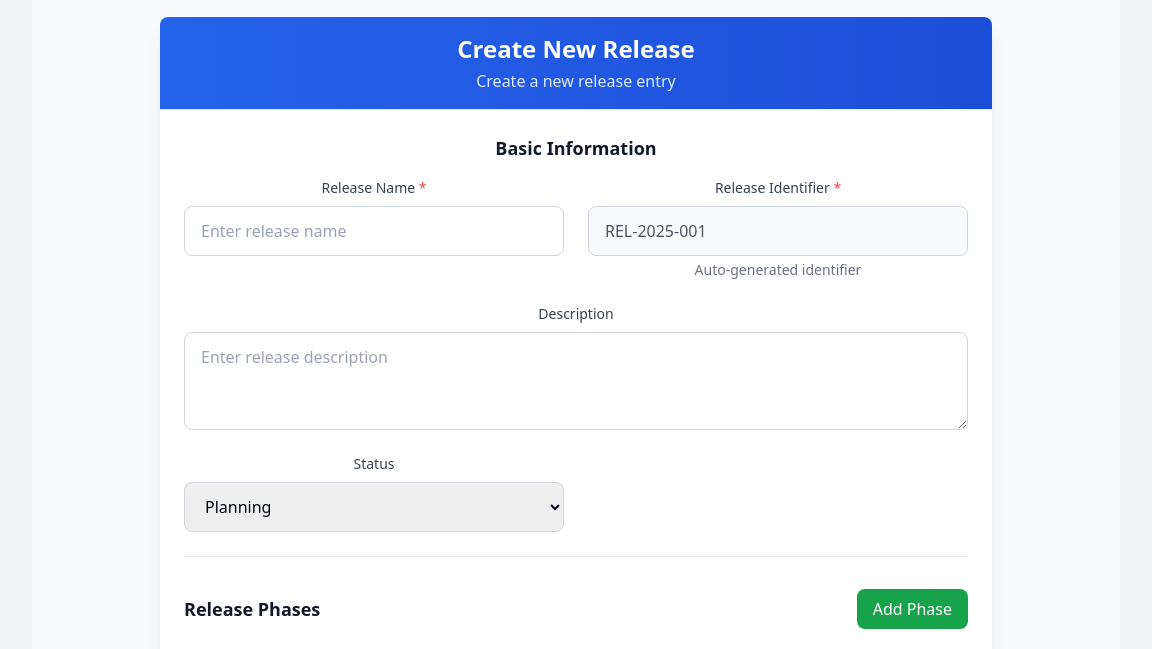
ReleaseForm › Phase Management › should auto-select next available phase type when adding new phase
Note: Add first phase - should default to first available type
Click the button "Add Phase". click: x=912, y=609
box: x1=857 y1=589 x2=968 y2=629
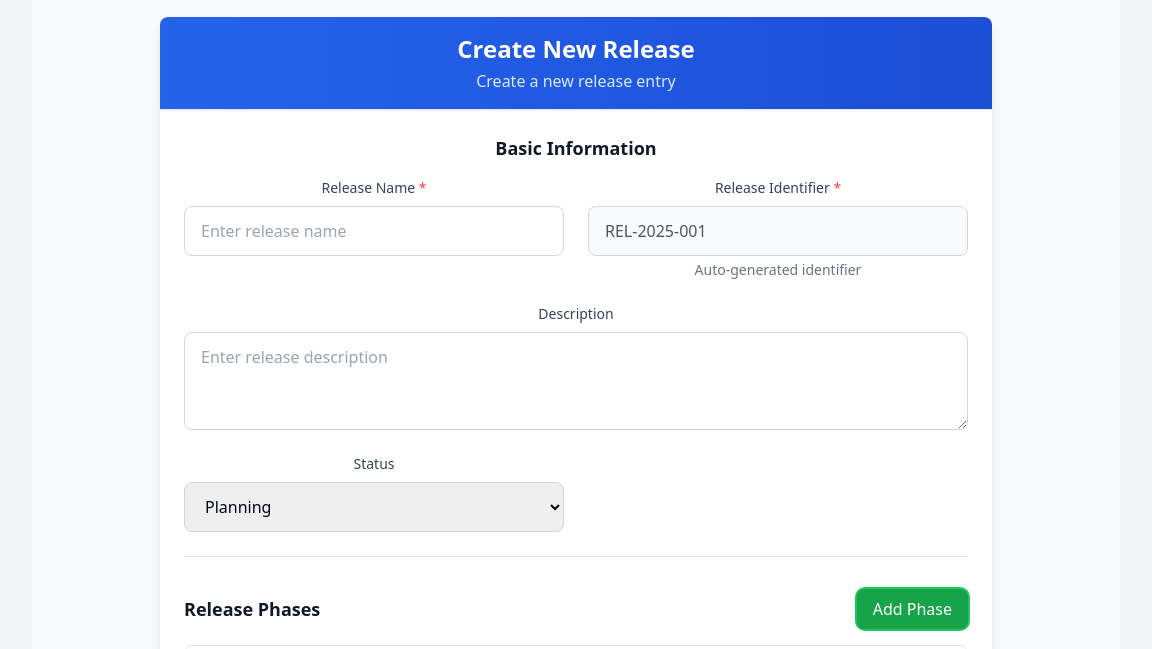
Note: Add second phase - should pick next available type
Click the button "Add Phase". click: x=912, y=609
box: x1=857 y1=589 x2=968 y2=629
(page scrolled)
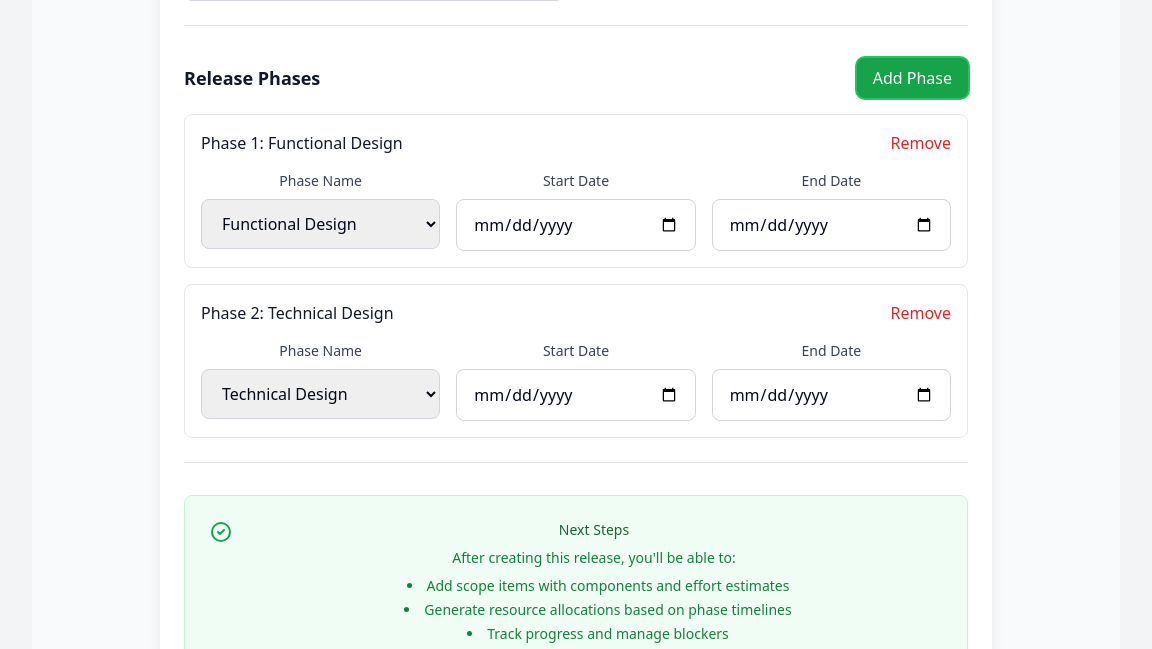
Check: the heading "Phase 2: Technical Design" is shown, box x1=201 y1=301 x2=394 y2=325
